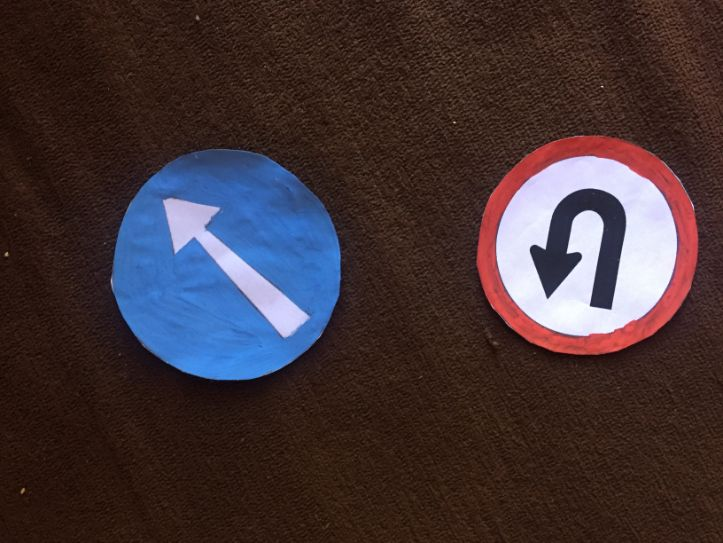keep-left: (108, 150, 343, 384)
no-horn: (473, 136, 696, 355)
